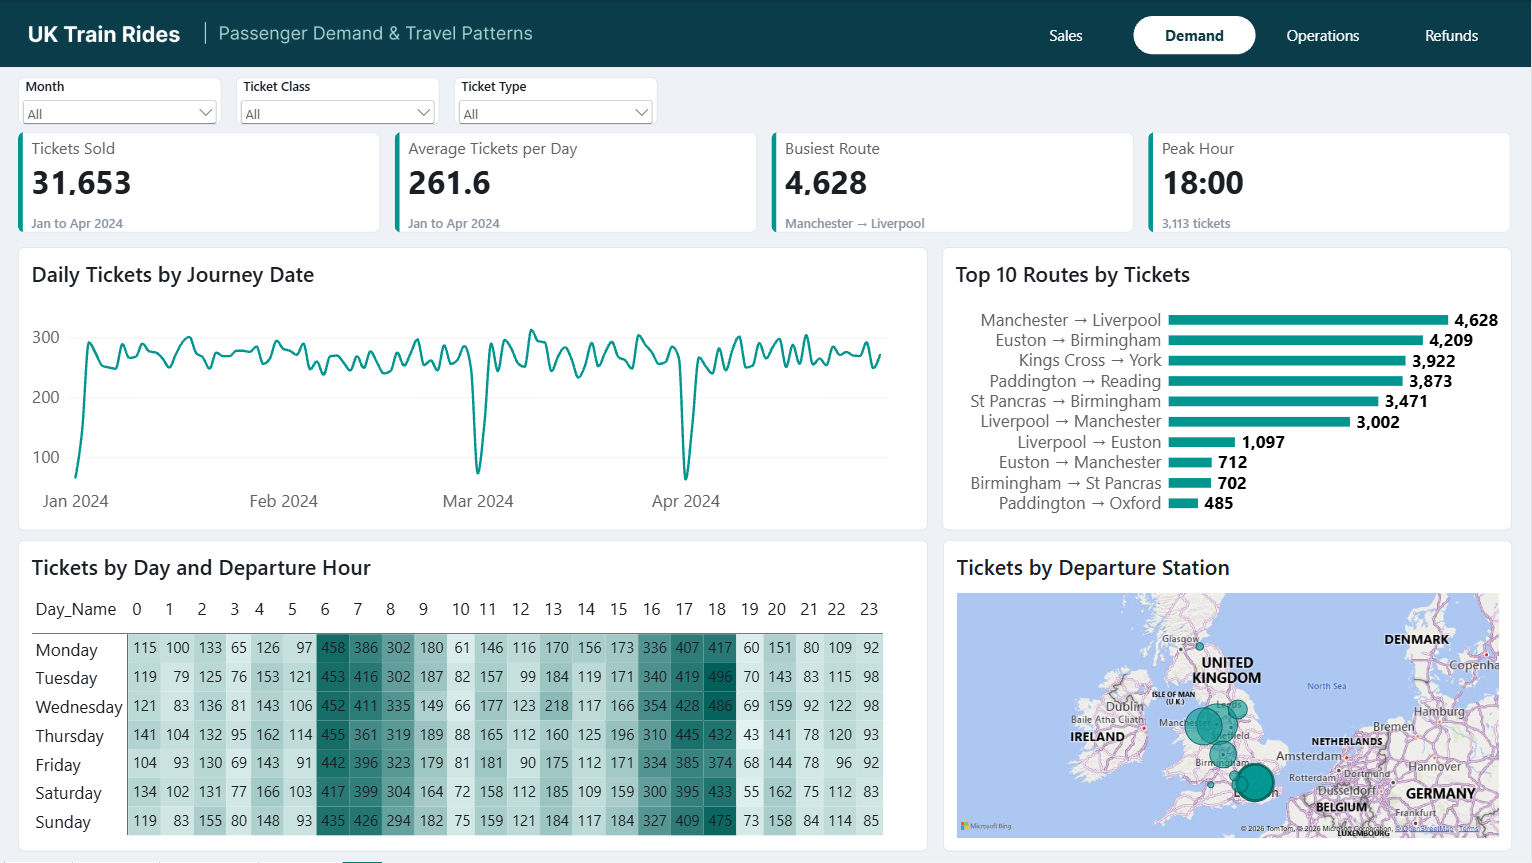

Layout of this report page (visuals, bound fields, positions):
{"tool":"powerbi","page":{"name":"Demand","canvas":[1920,1080],"ordinal":1},"visuals":[{"type":"cardVisual","fields":{"Data":["_Measures.Tickets Sold","_Measures.Average Tickets per Day","_Measures.Busiest Route Tickets","_Measures.Peak Hour"]},"box":[24,165,1872,126],"z":0},{"type":"slicer","fields":{"Values":["Dim_Date.Month Name"]},"box":[24,96,255,60],"z":1000},{"type":"slicer","fields":{"Values":["Dim_TicketClass.Ticket_Class"]},"box":[297,96,255,60],"z":2000},{"type":"slicer","fields":{"Values":["Dim_TicketType.Ticket_Type"]},"box":[570,96,255,60],"z":3000},{"type":"lineChart","title":"Daily Tickets by Journey Date","fields":{"Category":["Dim_Date.Date"],"Y":["_Measures.Tickets Sold"]},"box":[24,309,1140,355],"z":4000},{"type":"barChart","title":"Top 10 Routes by Tickets","fields":{"Category":["Dim_Route.Route Short"],"Y":["_Measures.Tickets Sold"]},"box":[1182,309,714,355],"z":5000},{"type":"pageNavigator","box":[1260,20,636,48],"z":6000},{"type":"pivotTable","title":"Tickets by Day and Departure Hour","fields":{"Columns":["Fact_Journey.Departure Hour"],"Rows":["Dim_Date.Day_Name"],"Values":["_Measures.Tickets Sold"]},"box":[24,676,1140,390],"z":7000},{"type":"map","title":"Tickets by Departure Station","fields":{"Category":["Dim_Station.Station_Name"],"Size":["_Measures.Tickets Sold"],"X":["Dim_Station.Longitude"],"Y":["Dim_Station.Latitude"]},"box":[1182.3,676,713.1,390],"z":8000}]}

Visuals, with their boxes in screenshot pixels (x1, y1, x2, y2), scaled from the page's 1920x1080 canvas onto the 1532x863 screenshot:
cardVisual - _Measures.Tickets Sold x _Measures.Average Tickets per Day: (x1=19, y1=132, x2=1513, y2=233)
slicer - Dim_Date.Month Name: (x1=19, y1=77, x2=223, y2=125)
slicer - Dim_TicketClass.Ticket_Class: (x1=237, y1=77, x2=440, y2=125)
slicer - Dim_TicketType.Ticket_Type: (x1=455, y1=77, x2=658, y2=125)
"Daily Tickets by Journey Date" lineChart: (x1=19, y1=247, x2=929, y2=531)
"Top 10 Routes by Tickets" barChart: (x1=943, y1=247, x2=1513, y2=531)
pageNavigator: (x1=1005, y1=16, x2=1513, y2=54)
"Tickets by Day and Departure Hour" pivotTable: (x1=19, y1=540, x2=929, y2=852)
"Tickets by Departure Station" map: (x1=943, y1=540, x2=1512, y2=852)
